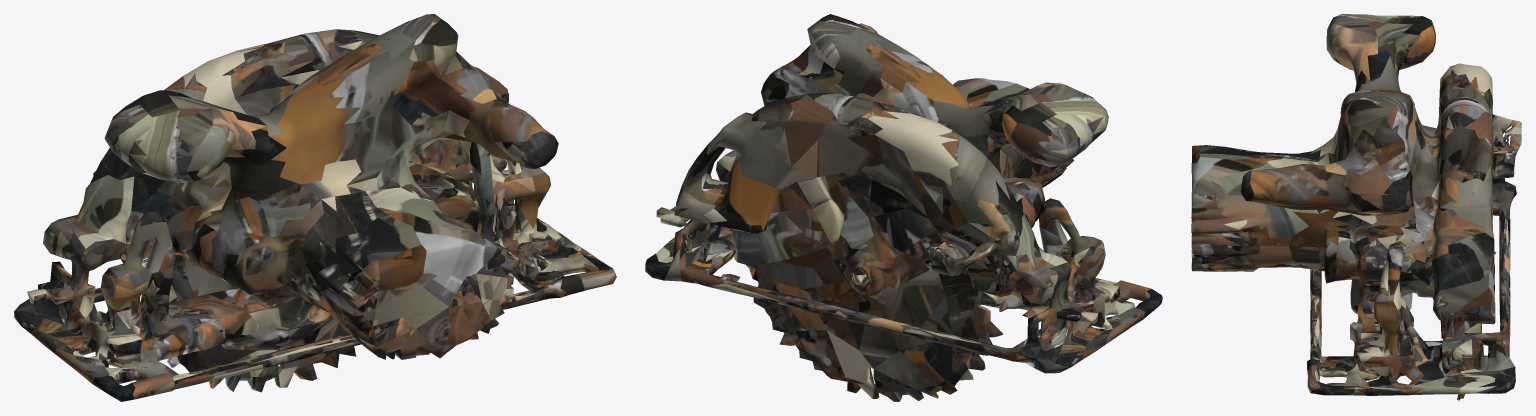
Rendered from pila.fbx.
3 views of the same model, side by side, from view 1: azimuth 30°, elevation 25°; view 2: azimuth 150°, elevation 25°; view 3: azimuth 270°, elevation 25° (orthographic). The views are drawn at different scales.
Parts seen in each view (by area): view 1: temp; view 2: temp; view 3: temp.
Boxes of the visible parts, x1=… form: temp: x1=14, y1=14, x2=616, y2=401; temp: x1=645, y1=14, x2=1162, y2=401; temp: x1=1191, y1=14, x2=1521, y2=401.
Size of the model in its own units: 200 by 142 by 131.
